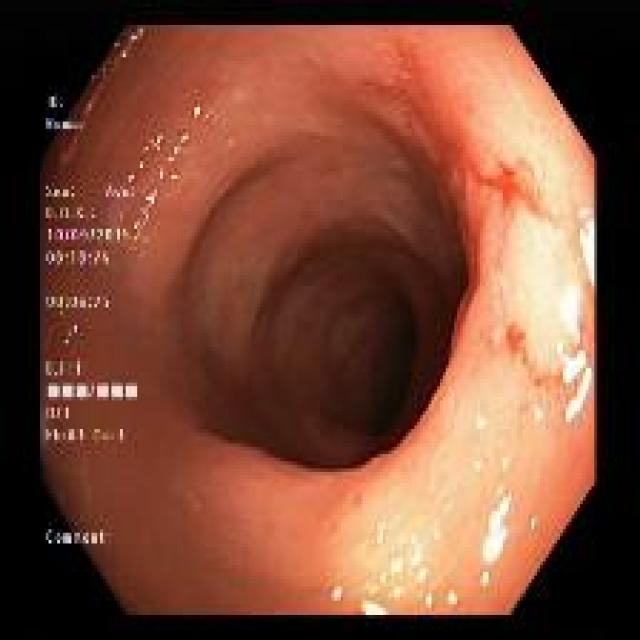ulcerative-colitis: (94, 28, 595, 614)
